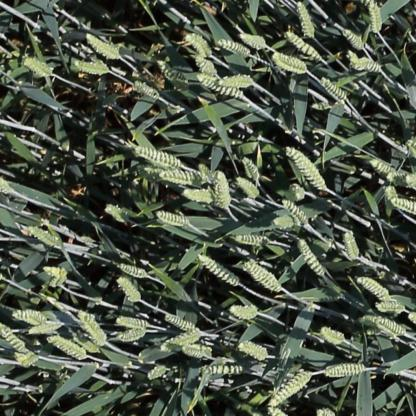whd: (286, 144, 328, 190), (271, 368, 313, 408), (198, 254, 240, 287), (194, 72, 244, 98), (297, 236, 327, 278), (244, 262, 282, 292), (286, 30, 322, 60), (145, 166, 204, 184), (0, 323, 32, 356), (323, 361, 370, 382), (46, 336, 86, 360), (86, 34, 121, 61), (78, 313, 106, 346), (157, 332, 201, 353), (272, 52, 310, 76), (136, 146, 181, 166), (157, 58, 188, 86), (296, 0, 317, 41), (357, 277, 391, 302), (236, 339, 272, 362), (282, 198, 310, 226), (217, 74, 259, 92), (165, 314, 200, 335), (185, 31, 212, 58), (322, 75, 350, 101), (71, 59, 111, 77), (116, 277, 142, 304), (362, 316, 405, 332), (348, 57, 384, 76), (215, 169, 230, 211), (11, 308, 47, 325), (372, 299, 408, 316), (371, 159, 403, 178), (199, 360, 242, 374), (28, 226, 58, 246), (193, 53, 218, 77), (216, 37, 251, 54), (72, 333, 100, 354), (342, 26, 366, 50), (240, 33, 270, 52), (344, 229, 360, 263), (22, 56, 52, 74), (236, 176, 260, 198), (369, 0, 383, 36), (156, 212, 191, 226), (133, 80, 160, 98), (197, 162, 218, 184), (13, 353, 39, 370), (105, 204, 128, 223), (118, 264, 149, 278), (321, 327, 346, 344), (390, 198, 416, 214), (44, 271, 67, 289), (178, 346, 207, 360), (230, 304, 259, 318), (115, 317, 151, 328), (28, 323, 61, 335), (182, 190, 215, 202), (242, 157, 259, 180), (233, 234, 268, 245), (362, 324, 394, 336), (118, 328, 146, 341), (384, 183, 399, 204), (42, 266, 66, 278), (147, 366, 167, 380), (274, 215, 295, 227), (346, 50, 360, 63)
